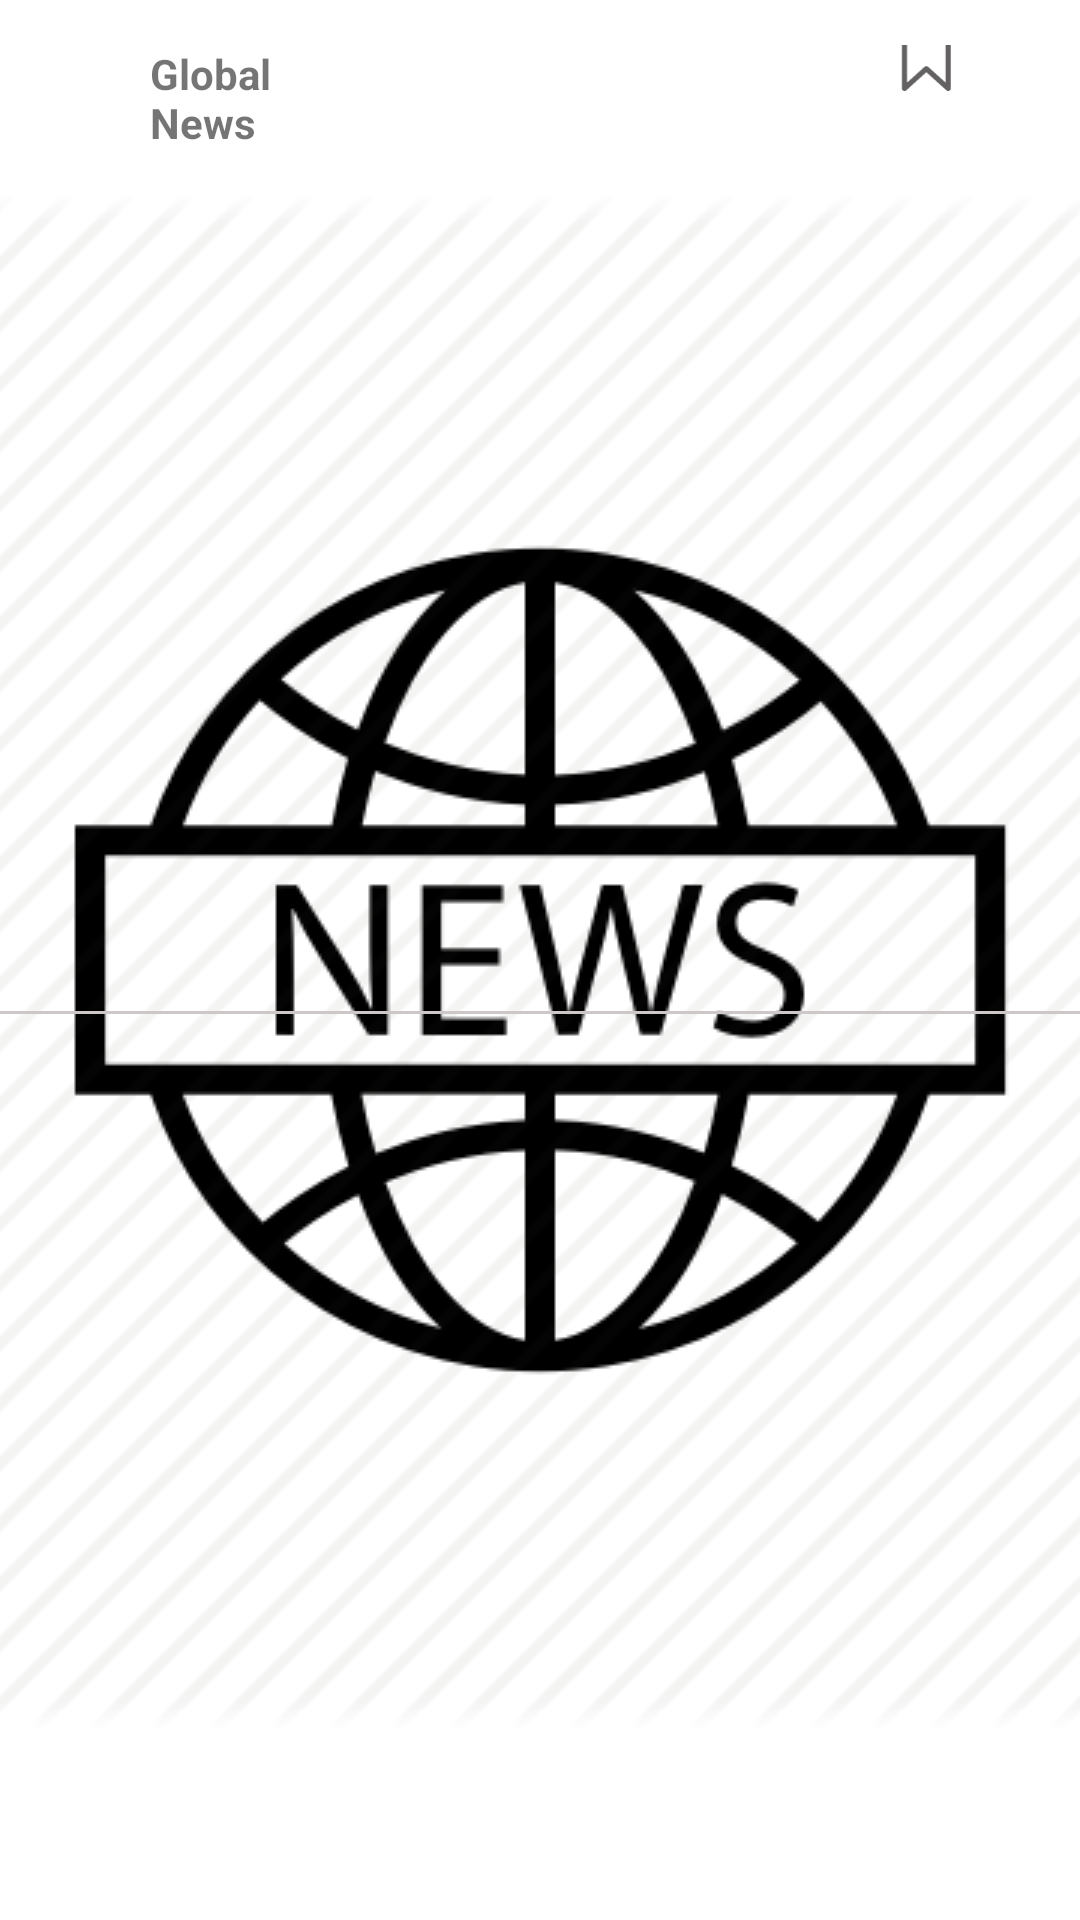

Icon bounding boxes for this 1080w x 1920h phone screenshot, format box(x1, y1, x2, y2):
bookmark: box(901, 45, 951, 91)
